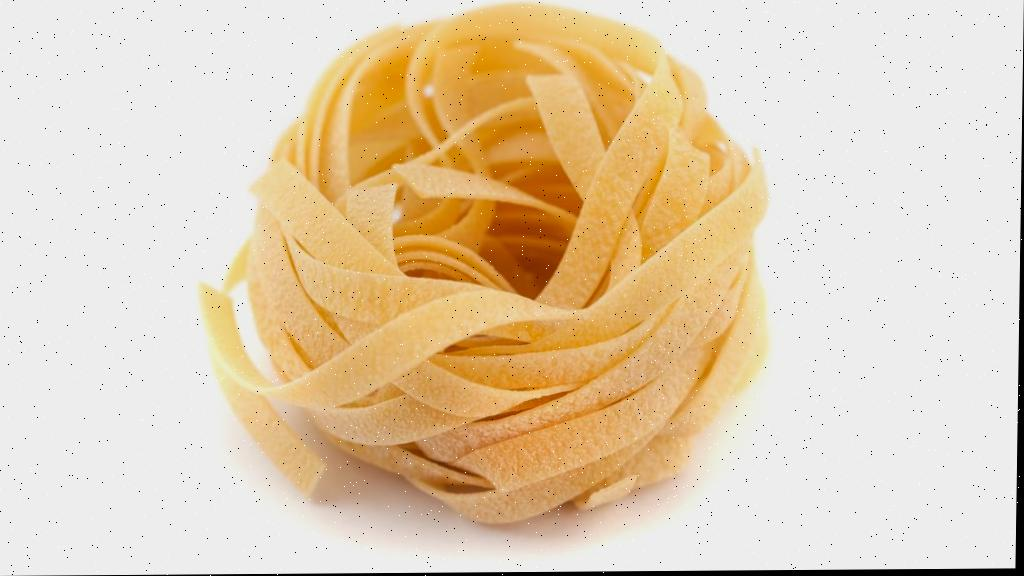pasta: (201, 4, 766, 521)
